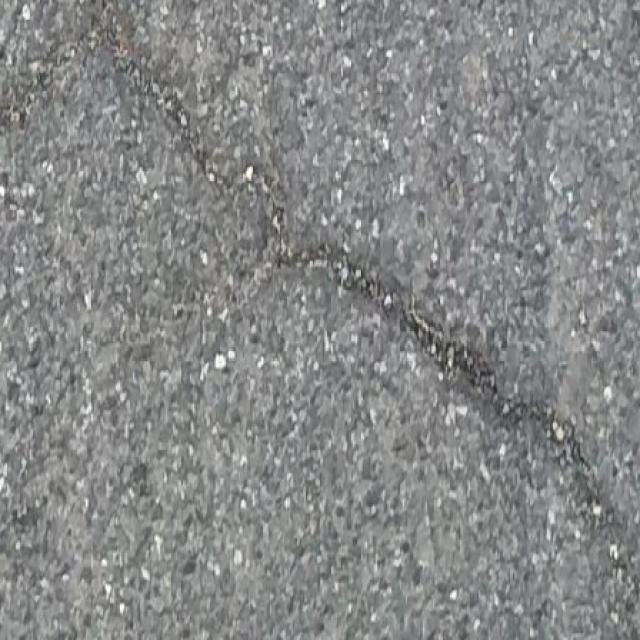Diagonal Crack: (1, 8, 614, 535)
